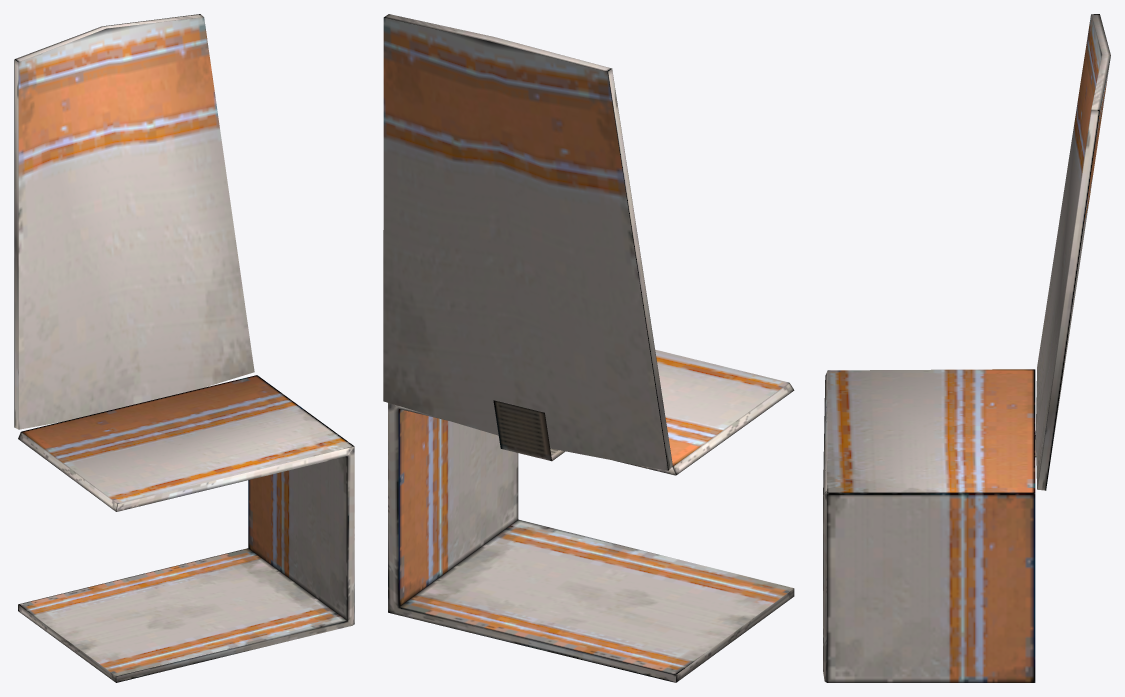
The model's file is frn_all_chair_kitchen_s1_l3.fbx.
3 views of the same model, side by side, from view 1: azimuth 30°, elevation 25°; view 2: azimuth 150°, elevation 25°; view 3: azimuth 270°, elevation 25° (orthographic). The views are drawn at different scales.
Visible parts, largest first — view 1: mesh_node; view 2: mesh_node; view 3: mesh_node.
Part boxes in pixels (x1,y1,x2,y2): mesh_node: (14,14,354,682); mesh_node: (383,14,794,682); mesh_node: (823,14,1110,682).
Size of the model in its own units: 0.56 by 1.19 by 0.5468.
